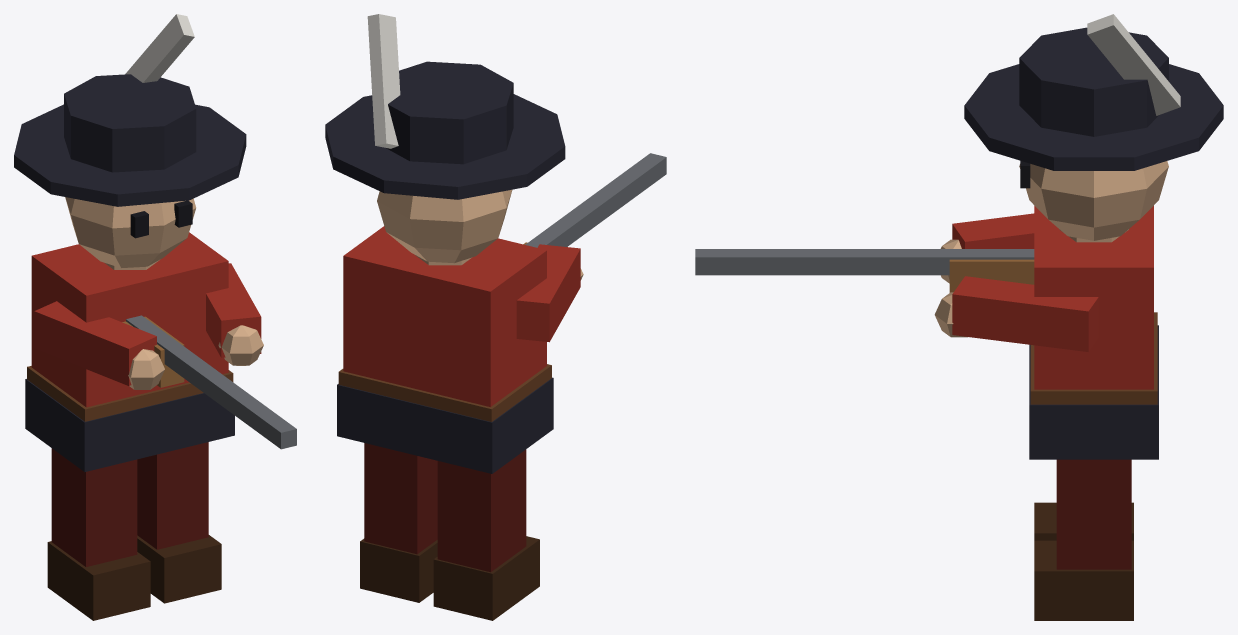
The model's file is u_musketeer.fbx.
3 renders of one model, left to right at view 1: azimuth 30°, elevation 25°; view 2: azimuth 150°, elevation 25°; view 3: azimuth 270°, elevation 25°, orthographic. The views are drawn at different scales.
Visible parts, largest first — view 1: u_musketeer_Body, u_musketeer_LegR, u_musketeer_LegL; view 2: u_musketeer_Body, u_musketeer_LegR, u_musketeer_LegL; view 3: u_musketeer_Body, u_musketeer_LegL, u_musketeer_LegR.
Part boxes in pixels (x1,y1,x2,y2): u_musketeer_Body: [14, 14, 296, 471]; u_musketeer_LegR: [47, 448, 150, 620]; u_musketeer_LegL: [137, 442, 221, 603]; u_musketeer_Body: [325, 14, 666, 473]; u_musketeer_LegR: [433, 449, 539, 620]; u_musketeer_LegL: [360, 443, 437, 602]; u_musketeer_Body: [695, 14, 1223, 459]; u_musketeer_LegL: [1034, 459, 1133, 620]; u_musketeer_LegR: [1034, 502, 1133, 540].
Size of the model in its own units: 0.4977 by 1.33 by 1.06.
